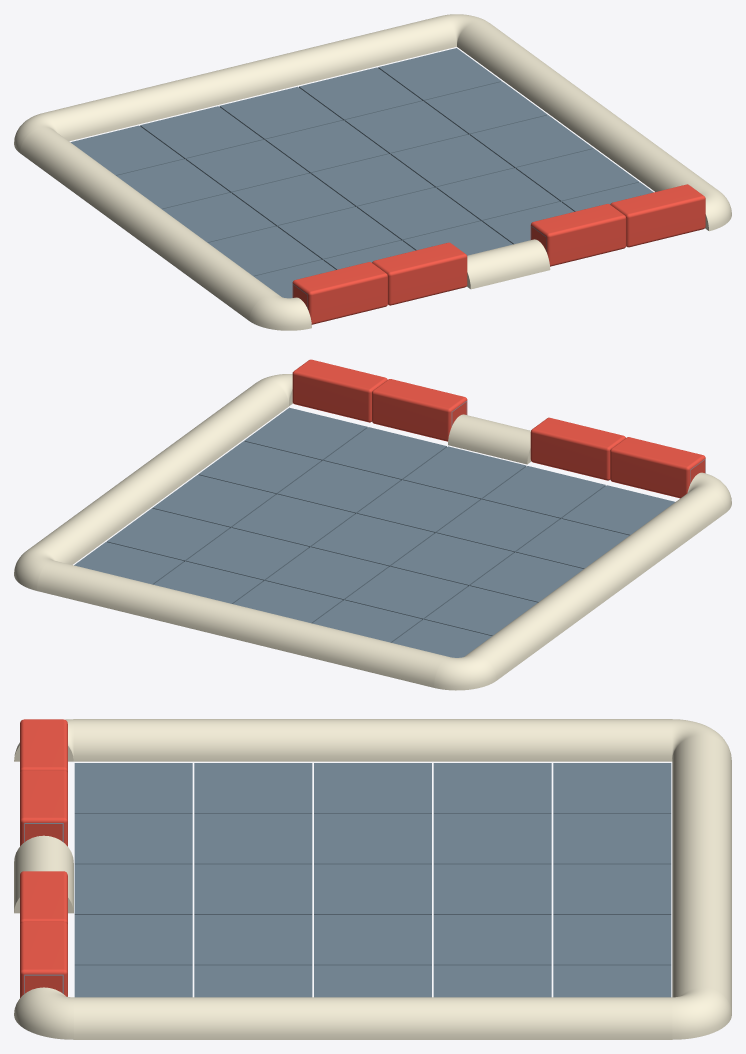
The model's file is AFJ_Simple_Board_5x5.fbx.
The picture shows the model from 3 angles, top to bottom: view 1: azimuth 30°, elevation 25°; view 2: azimuth 150°, elevation 25°; view 3: azimuth 270°, elevation 25°; orthographic projection. The views are drawn at different scales.
Visible parts, largest first — view 1: Gate_RightCorner_2Units_Arm_Left, Gate_LeftCorner_2Units_Arm_Left, Gate_LeftCorner_2Units_Arm_Right, Gate_RightCorner_2Units_Arm_Right, Tile_2_3, Tile_1_4, Tile_2_2, Tile_4_4, Tile_3_2, Tile_4_2, Tile_1_1, Tile_1_2 (+36 smaller); view 2: Gate_RightCorner_2Units_Arm_Left, Gate_LeftCorner_2Units_Arm_Left, Gate_LeftCorner_2Units_Arm_Right, Gate_RightCorner_2Units_Arm_Right, Tile_2_1, Tile_1_1, Tile_1_3, Tile_2_3, Tile_1_0, Tile_1_2, Tile_2_0, Tile_2_2 (+36 smaller); view 3: Tile_1_0, Tile_1_1, Tile_1_3, Tile_1_4, Tile_1_2, Tile_0_0, Tile_0_1, Tile_0_3, Tile_0_4, Tile_2_0, Tile_2_1, Tile_2_3 (+36 smaller).
Part boxes in pixels (x1=…): Gate_RightCorner_2Units_Arm_Left: x1=530, y1=204, x2=626, y2=266; Gate_LeftCorner_2Units_Arm_Left: x1=292, y1=262, x2=387, y2=324; Gate_LeftCorner_2Units_Arm_Right: x1=372, y1=242, x2=467, y2=305; Gate_RightCorner_2Units_Arm_Right: x1=610, y1=184, x2=705, y2=247; Tile_2_3: x1=265, y1=120, x2=388, y2=173; Tile_1_4: x1=140, y1=106, x2=263, y2=159; Tile_2_2: x1=311, y1=154, x2=434, y2=207; Tile_4_4: x1=378, y1=48, x2=501, y2=101; Tile_3_2: x1=390, y1=134, x2=513, y2=187; Tile_4_2: x1=470, y1=115, x2=593, y2=168; Tile_1_1: x1=277, y1=207, x2=400, y2=260; Tile_1_2: x1=232, y1=173, x2=355, y2=226; Gate_RightCorner_2Units_Arm_Left: x1=372, y1=379, x2=467, y2=441; Gate_LeftCorner_2Units_Arm_Left: x1=610, y1=437, x2=705, y2=498; Gate_LeftCorner_2Units_Arm_Right: x1=530, y1=417, x2=625, y2=480; Gate_RightCorner_2Units_Arm_Right: x1=292, y1=359, x2=387, y2=422; Tile_2_1: x1=357, y1=480, x2=480, y2=533; Tile_1_1: x1=436, y1=499, x2=559, y2=552; Tile_1_3: x1=345, y1=566, x2=468, y2=619; Tile_2_3: x1=265, y1=547, x2=388, y2=600; Tile_1_0: x1=482, y1=466, x2=605, y2=519; Tile_1_2: x1=390, y1=533, x2=513, y2=586; Tile_2_0: x1=403, y1=446, x2=526, y2=499; Tile_2_2: x1=311, y1=513, x2=434, y2=566; Tile_1_0: x1=74, y1=813, x2=192, y2=864; Tile_1_1: x1=194, y1=813, x2=312, y2=864; Tile_1_3: x1=433, y1=813, x2=551, y2=864; Tile_1_4: x1=553, y1=813, x2=671, y2=864; Tile_1_2: x1=314, y1=813, x2=431, y2=864; Tile_0_0: x1=74, y1=763, x2=192, y2=813; Tile_0_1: x1=194, y1=763, x2=312, y2=813; Tile_0_3: x1=433, y1=763, x2=551, y2=813; Tile_0_4: x1=553, y1=763, x2=671, y2=813; Tile_2_0: x1=74, y1=864, x2=192, y2=914; Tile_2_1: x1=194, y1=864, x2=312, y2=914; Tile_2_3: x1=433, y1=864, x2=551, y2=914.
Size of the model in its own units: 600 by 59.2 by 600.
